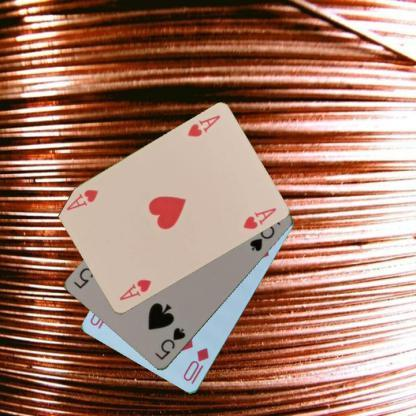10d: (180, 345, 210, 386)
5s: (152, 324, 186, 362)
Ah: (184, 112, 222, 138), (116, 276, 152, 302)
